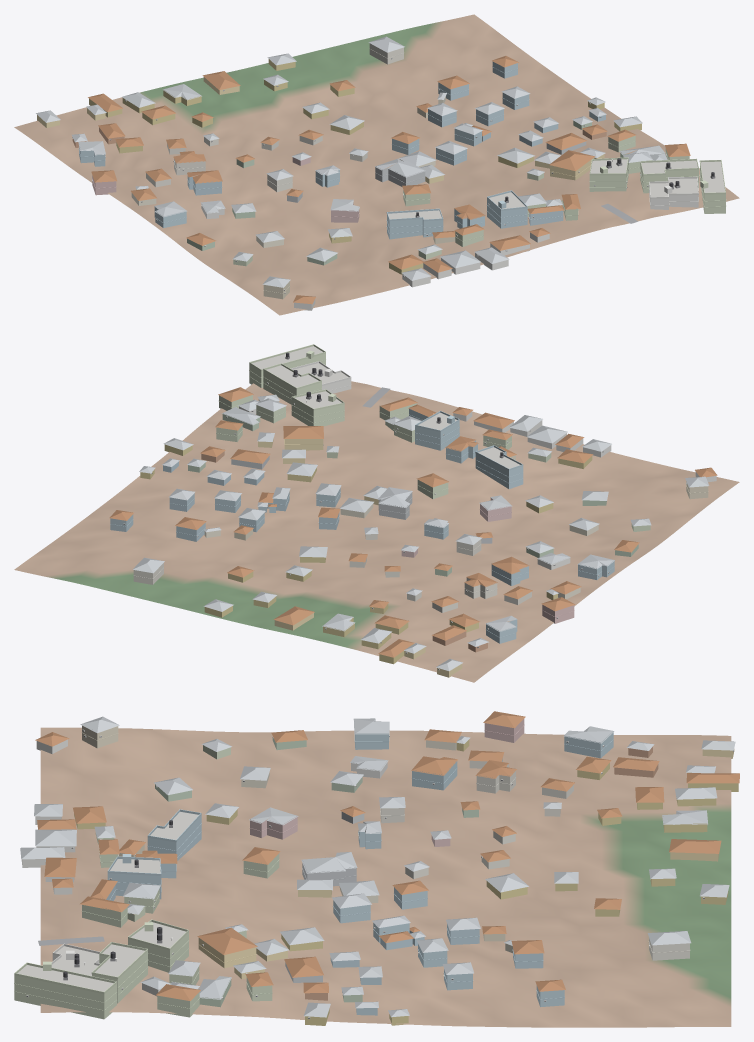
3 views of the same model, one above another, from view 1: azimuth 30°, elevation 25°; view 2: azimuth 150°, elevation 25°; view 3: azimuth 270°, elevation 25° (orthographic). The views are drawn at different scales.
Parts seen in each view (by area): view 1: Terrain-col, Buildings-col, Details; view 2: Terrain-col, Buildings-col, Details; view 3: Terrain-col, Buildings-col, Details.
Part boxes in pixels (x1=…): Terrain-col: x1=14, y1=14, x2=739, y2=315; Buildings-col: x1=36, y1=36, x2=725, y2=310; Details: x1=72, y1=48, x2=726, y2=293; Terrain-col: x1=14, y1=381, x2=739, y2=682; Buildings-col: x1=109, y1=346, x2=717, y2=677; Details: x1=110, y1=344, x2=708, y2=670; Terrain-col: x1=40, y1=727, x2=731, y2=1027; Buildings-col: x1=14, y1=711, x2=739, y2=1025; Details: x1=14, y1=725, x2=733, y2=1018.
Bounding box in the file's own units: 265 × 20.07 × 269.
